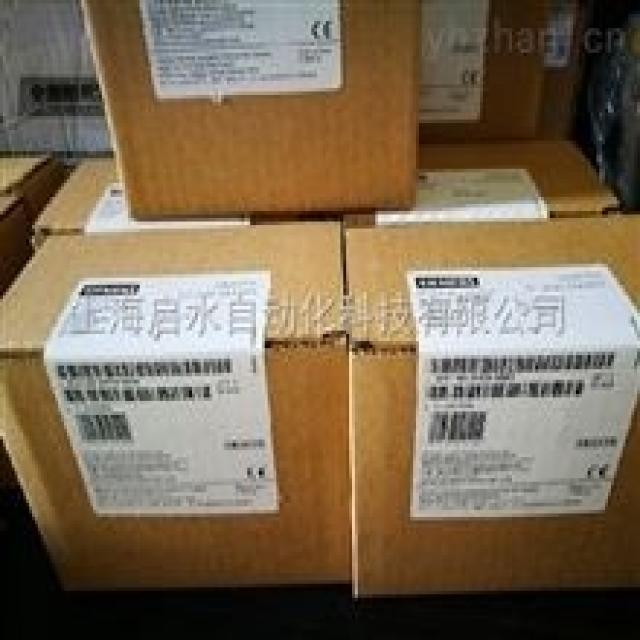box: (0, 222, 352, 591), (343, 215, 640, 598), (81, 0, 419, 222), (32, 158, 340, 253), (340, 137, 620, 225), (0, 155, 64, 229), (0, 193, 32, 302)
